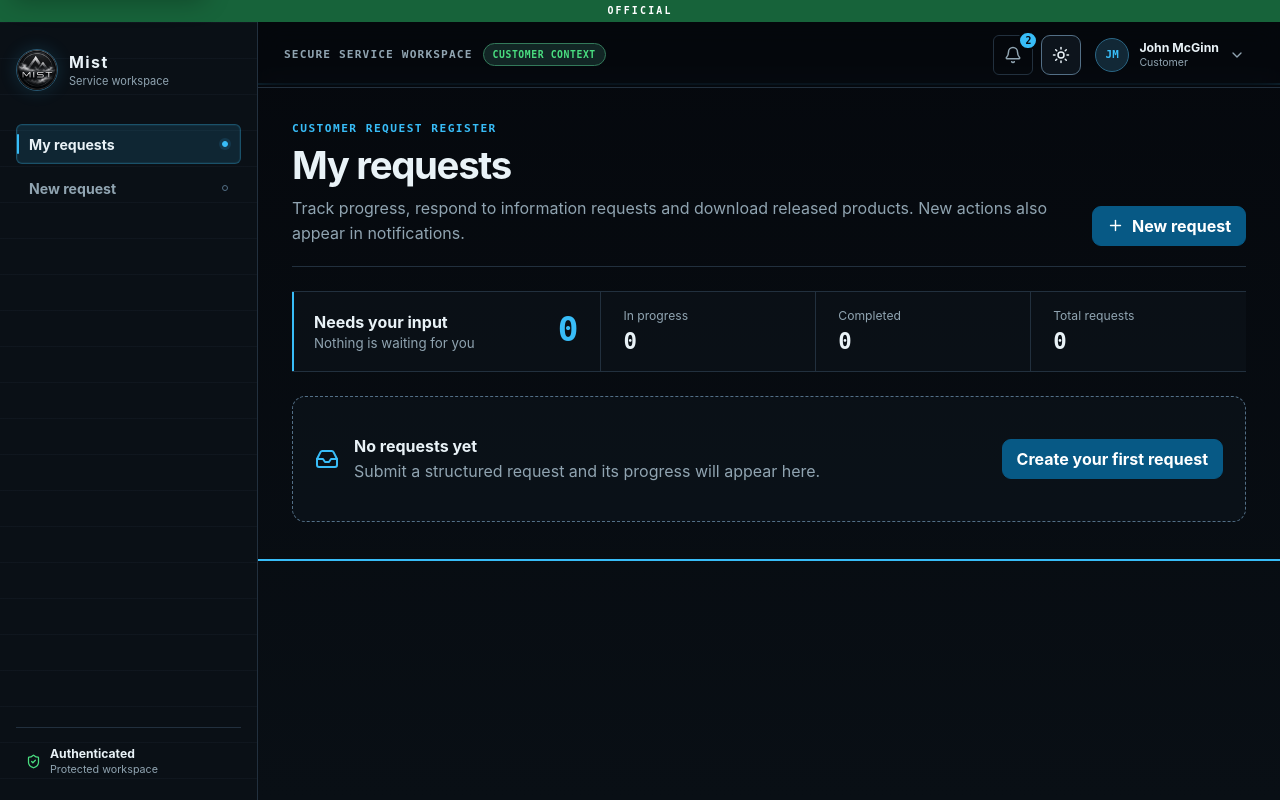
server capabilities › keeps Customer actions in My requests and preserves notifications
The width and height of the screenshot is (1280, 800).
Check: the heading "My requests" is shown, box [292,142,511,188]
Check: the text "New actions also appear in notifications" is shown, box [292,198,1047,243]
Click the link named "2 unread notifications" at [1013, 54], box [993,34,1033,74]
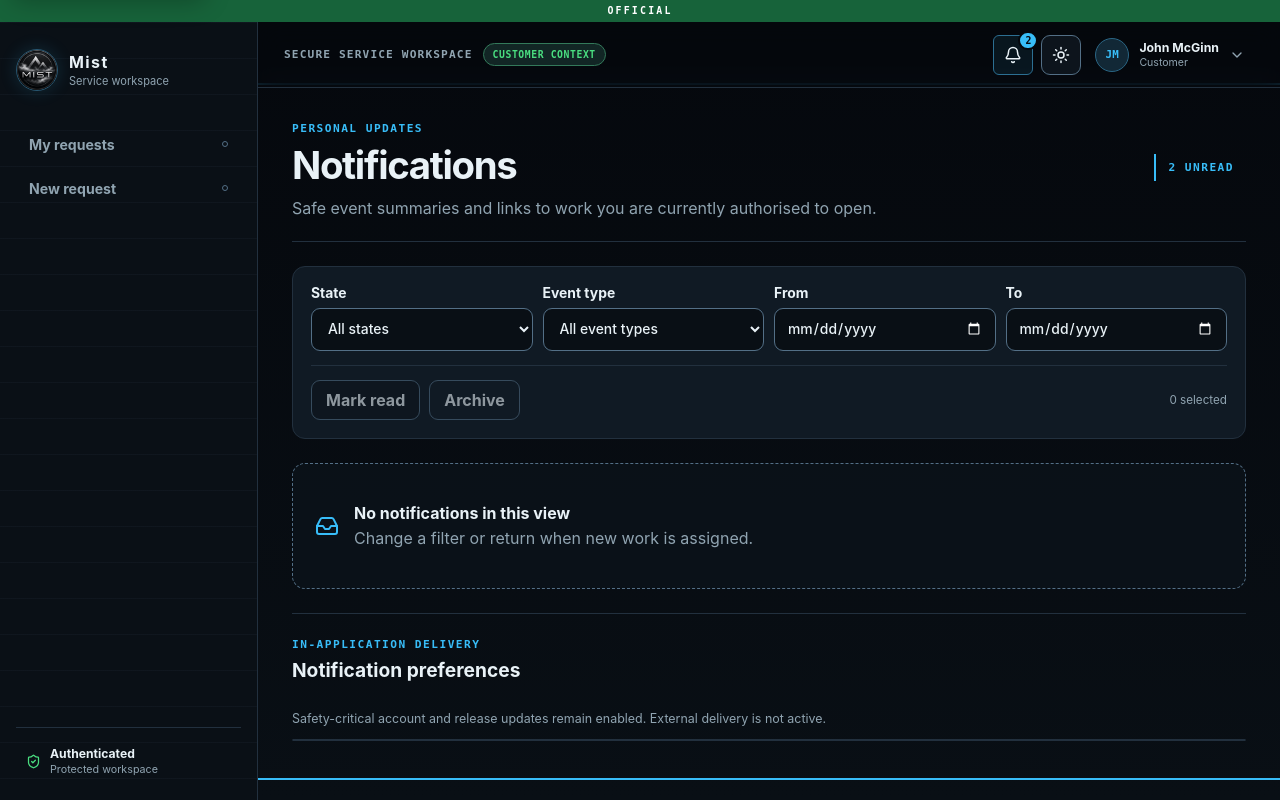
Check: the number of links named "2 unread notifications" is 2, box [993,34,1033,74]; [1154,154,1246,181]
Check: the heading "Notifications" is shown, box [292,142,516,188]
